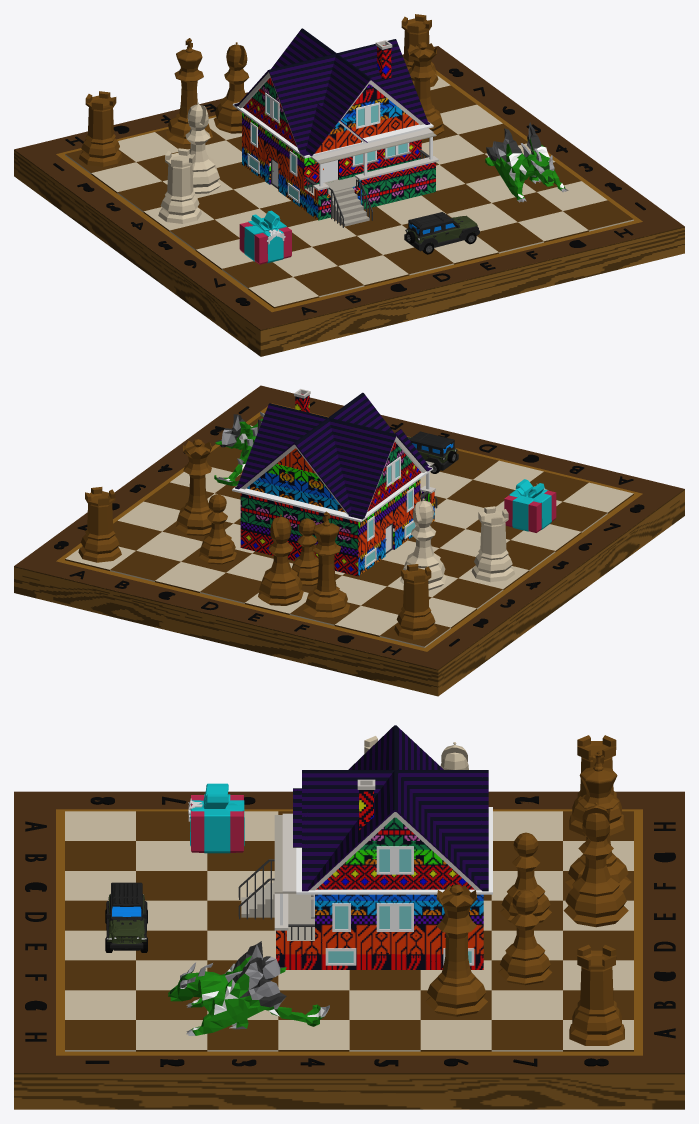
3 views of the same model, one above another, from view 1: azimuth 30°, elevation 25°; view 2: azimuth 150°, elevation 25°; view 3: azimuth 270°, elevation 25° (orthographic). The views are drawn at different scales.
Parts seen in each view (by area): view 1: Cube.002, Cube.966, ANIMAL_DRAGON, OBJRANDOM_GIANT_PRESENT, VEHICLES_JEEP; view 2: Cube.002, Cube.966, OBJRANDOM_GIANT_PRESENT, ANIMAL_DRAGON, VEHICLES_JEEP; view 3: Cube.002, Cube.966, ANIMAL_DRAGON, OBJRANDOM_GIANT_PRESENT, VEHICLES_JEEP.
Boxes of the visible parts, left/top/right/bottom form: Cube.002: left=14, top=14, right=684, bottom=356; Cube.966: left=232, top=28, right=438, bottom=227; ANIMAL_DRAGON: left=485, top=122, right=568, bottom=202; OBJRANDOM_GIANT_PRESENT: left=239, top=210, right=291, bottom=264; VEHICLES_JEEP: left=404, top=212, right=479, bottom=254; Cube.002: left=14, top=385, right=684, bottom=696; Cube.966: left=232, top=389, right=437, bottom=576; OBJRANDOM_GIANT_PRESENT: left=504, top=479, right=556, bottom=532; ANIMAL_DRAGON: left=214, top=412, right=264, bottom=485; VEHICLES_JEEP: left=407, top=431, right=458, bottom=473; Cube.002: left=14, top=735, right=684, bottom=1109; Cube.966: left=238, top=725, right=492, bottom=969; ANIMAL_DRAGON: left=168, top=941, right=329, bottom=1035; OBJRANDOM_GIANT_PRESENT: left=188, top=783, right=244, bottom=853; VEHICLES_JEEP: left=105, top=882, right=147, bottom=952.
Size of the model in its own units: 3981 by 1636 by 4012.
Materials: 39 (6 with a texture image).
